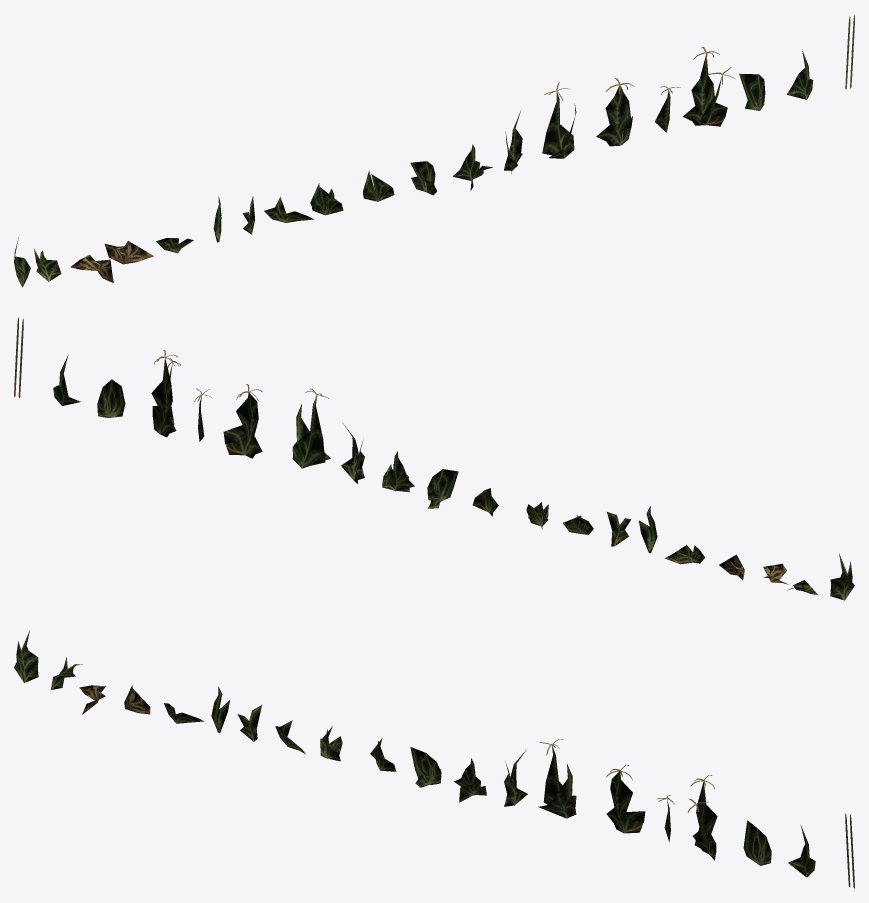
File: grass_bermuda_01.glb
3 views of the same model, one above another, from view 1: azimuth 30°, elevation 25°; view 2: azimuth 150°, elevation 25°; view 3: azimuth 330°, elevation 25° (orthographic).
Visible parts, largest first — view 1: grass_bermuda_01_seedling_d, grass_bermuda_01_seedling_b, grass_bermuda_01_seedling_a, grass_bermuda_01_medium_b, grass_bermuda_01_dead_b, grass_bermuda_01_medium_c, grass_bermuda_01_small_c, grass_bermuda_01_small_d, grass_bermuda_01_medium_e, grass_bermuda_01_dead_a, grass_bermuda_01_medium_d, grass_bermuda_01_medium_f; view 2: grass_bermuda_01_seedling_b, grass_bermuda_01_seedling_a, grass_bermuda_01_seedling_d, grass_bermuda_01_medium_b, grass_bermuda_01_medium_c, grass_bermuda_01_medium_e, grass_bermuda_01_medium_a, grass_bermuda_01_medium_f; view 3: grass_bermuda_01_seedling_a, grass_bermuda_01_seedling_b, grass_bermuda_01_seedling_d, grass_bermuda_01_medium_b, grass_bermuda_01_medium_c, grass_bermuda_01_medium_a, grass_bermuda_01_medium_e, grass_bermuda_01_medium_f, grass_bermuda_01_medium_d.
Boxes of the visible parts, x1,y1,x2,y2 form: grass_bermuda_01_seedling_d: (683, 47, 734, 126); grass_bermuda_01_seedling_b: (596, 78, 634, 146); grass_bermuda_01_seedling_a: (542, 82, 576, 158); grass_bermuda_01_medium_b: (739, 73, 765, 110); grass_bermuda_01_dead_b: (104, 241, 153, 264); grass_bermuda_01_medium_c: (410, 161, 436, 195); grass_bermuda_01_small_c: (310, 183, 343, 215); grass_bermuda_01_small_d: (363, 170, 394, 201); grass_bermuda_01_medium_e: (453, 144, 492, 190); grass_bermuda_01_dead_a: (70, 254, 113, 282); grass_bermuda_01_medium_d: (787, 49, 813, 99); grass_bermuda_01_medium_f: (504, 111, 522, 173); grass_bermuda_01_seedling_b: (223, 384, 262, 458); grass_bermuda_01_seedling_a: (292, 388, 330, 468); grass_bermuda_01_seedling_d: (151, 350, 180, 437); grass_bermuda_01_medium_b: (97, 379, 125, 417); grass_bermuda_01_medium_c: (427, 469, 458, 508); grass_bermuda_01_medium_e: (382, 451, 414, 492); grass_bermuda_01_medium_a: (830, 553, 854, 600); grass_bermuda_01_medium_f: (341, 422, 364, 483); grass_bermuda_01_seedling_a: (538, 739, 576, 818); grass_bermuda_01_seedling_b: (606, 765, 645, 833); grass_bermuda_01_seedling_d: (688, 775, 717, 860); grass_bermuda_01_medium_b: (743, 820, 771, 865); grass_bermuda_01_medium_c: (410, 747, 441, 787); grass_bermuda_01_medium_a: (14, 630, 38, 682); grass_bermuda_01_medium_e: (454, 758, 486, 802); grass_bermuda_01_medium_f: (504, 749, 527, 806); grass_bermuda_01_medium_d: (788, 825, 815, 877).
Size of the model in its own units: 1.69 by 0.1583 by 0.1422.
Materials: 1 (1 with a texture image).
